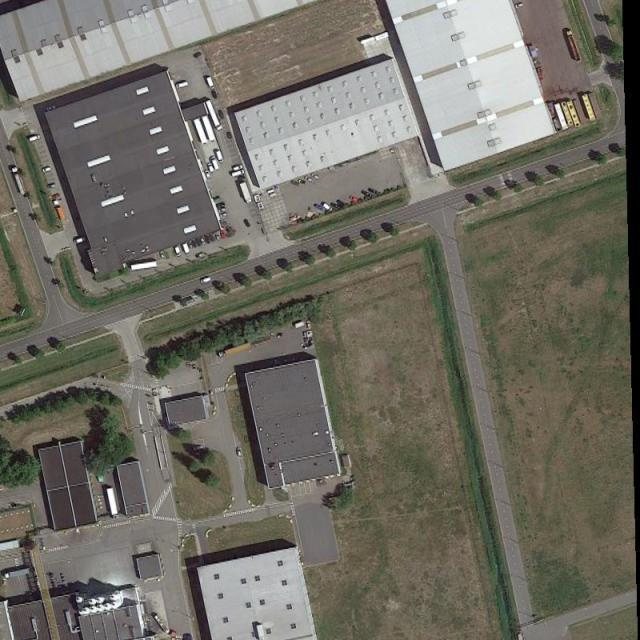vehicle: (105, 485, 122, 519), (206, 100, 223, 133), (218, 342, 252, 358), (202, 116, 218, 144), (238, 179, 252, 205), (193, 118, 207, 144), (13, 166, 26, 194), (130, 262, 159, 270), (210, 155, 220, 171), (182, 242, 192, 257), (216, 149, 225, 163), (322, 202, 334, 212), (303, 175, 315, 184), (206, 77, 215, 89), (28, 134, 41, 142), (218, 109, 226, 122), (231, 163, 244, 171), (176, 82, 189, 90), (206, 162, 214, 174), (174, 246, 182, 258), (74, 237, 86, 245), (230, 170, 243, 177), (361, 190, 372, 198), (190, 238, 198, 249), (514, 1, 525, 9), (368, 188, 380, 195), (200, 278, 212, 285), (194, 445, 204, 453), (207, 233, 215, 243), (51, 192, 61, 200), (158, 250, 166, 260), (290, 180, 301, 187), (187, 240, 194, 251), (42, 166, 51, 174), (203, 170, 211, 179), (313, 203, 323, 210), (196, 236, 203, 246), (203, 234, 210, 244), (310, 173, 320, 180), (330, 203, 341, 209), (215, 203, 226, 209), (350, 195, 358, 203), (194, 51, 202, 59), (243, 219, 250, 228), (298, 178, 307, 185), (46, 184, 56, 190), (211, 90, 218, 98), (337, 200, 346, 206), (214, 233, 220, 242), (201, 236, 206, 246), (218, 208, 226, 214), (220, 230, 225, 239), (238, 448, 242, 458), (219, 214, 227, 218)
